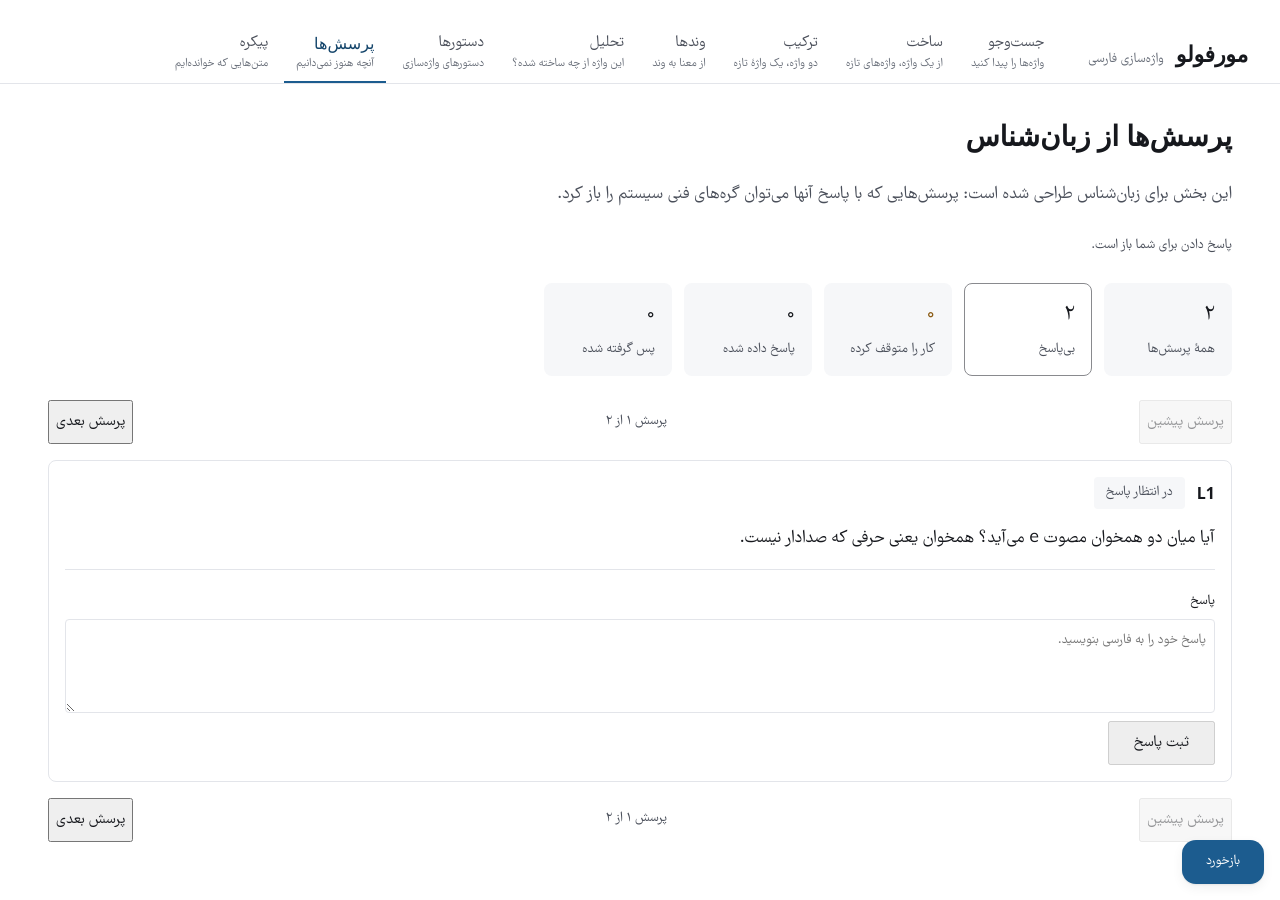
Test: the questions screen › stays on the question just answered, though the filter would drop it
Expected: the text "L1" is shown, top-left (1197, 479), bottom-right (1215, 507)
Type "بله، همان است." into the text box with placeholder "پاسخ خود را به فارسی بنویسید.".
click(640, 666); type("بله، همان است.")  # box top-left (65, 619), bottom-right (1215, 713)
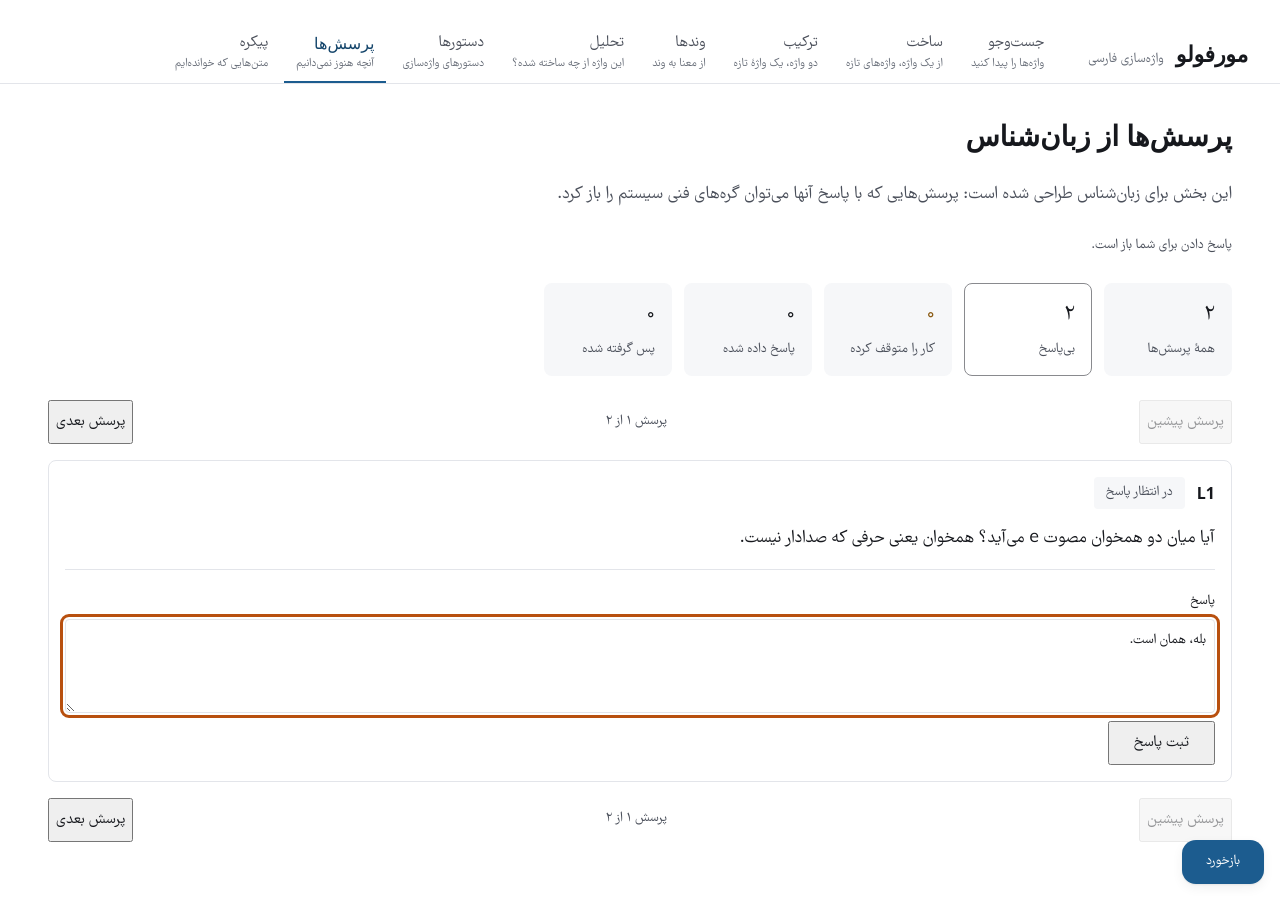
Click the button "ثبت پاسخ".
click(1161, 742)  # box top-left (1108, 720), bottom-right (1215, 764)
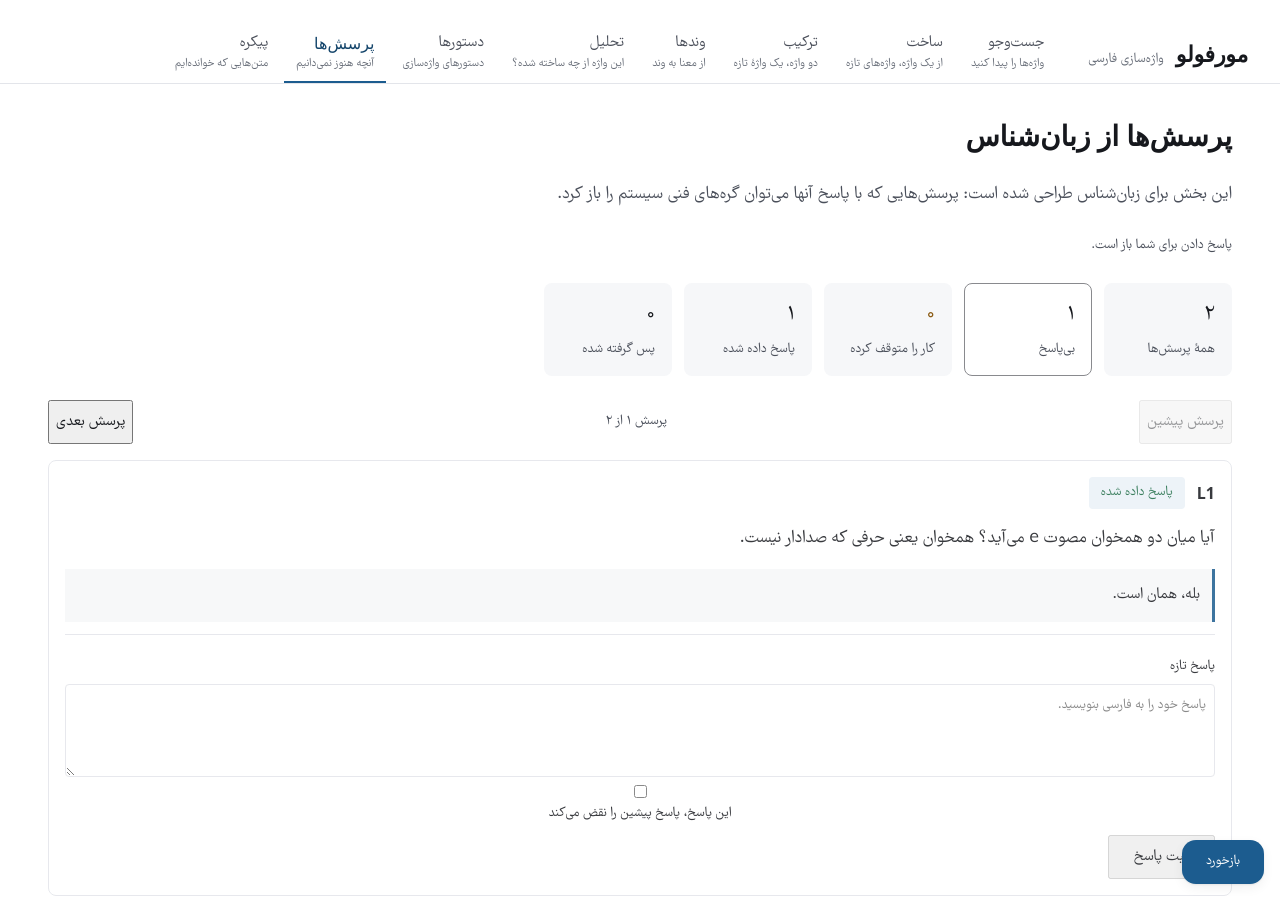
Expected: the text "L1" is shown, top-left (1197, 479), bottom-right (1215, 507)
Expected: the text "بله، همان است." is shown, top-left (1113, 584), bottom-right (1200, 606)
